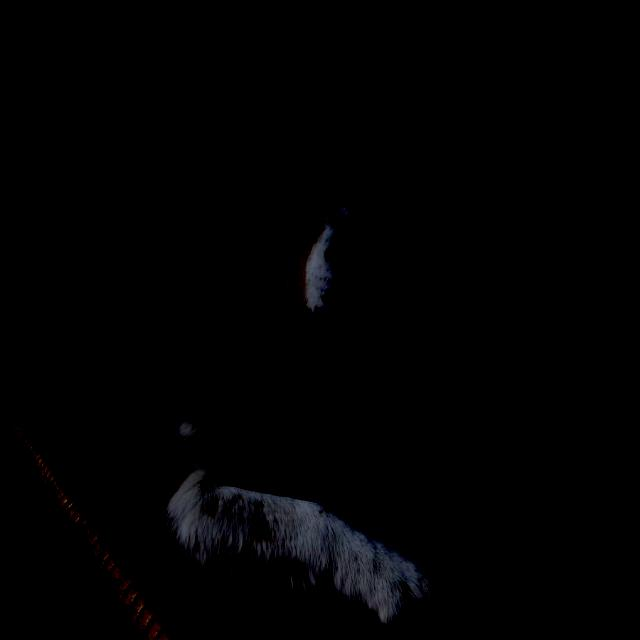Dog: (59, 76, 538, 589)
